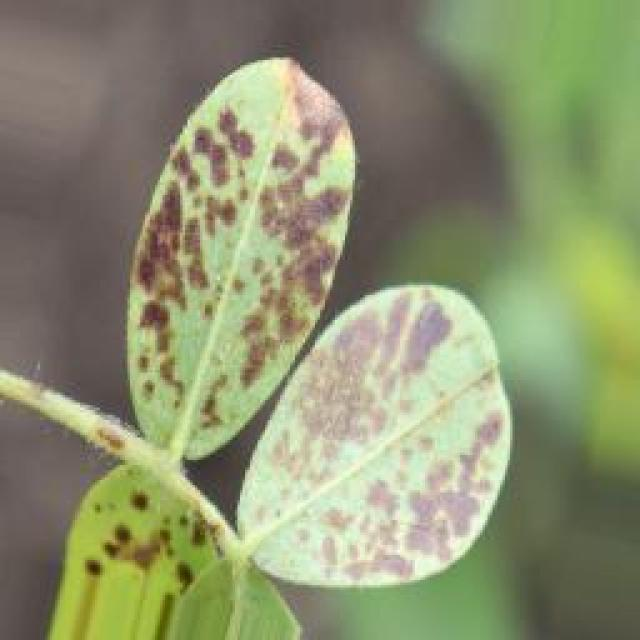Whitefly: (54, 61, 500, 621)
